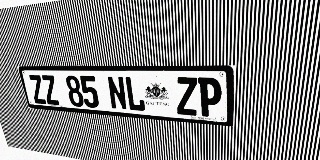5: (79, 76, 100, 108)
8: (64, 75, 85, 107)
L: (124, 76, 146, 112)
N: (106, 76, 128, 110)
P: (198, 77, 222, 118)
Z: (175, 77, 198, 116), (40, 75, 60, 105), (28, 75, 47, 104)
